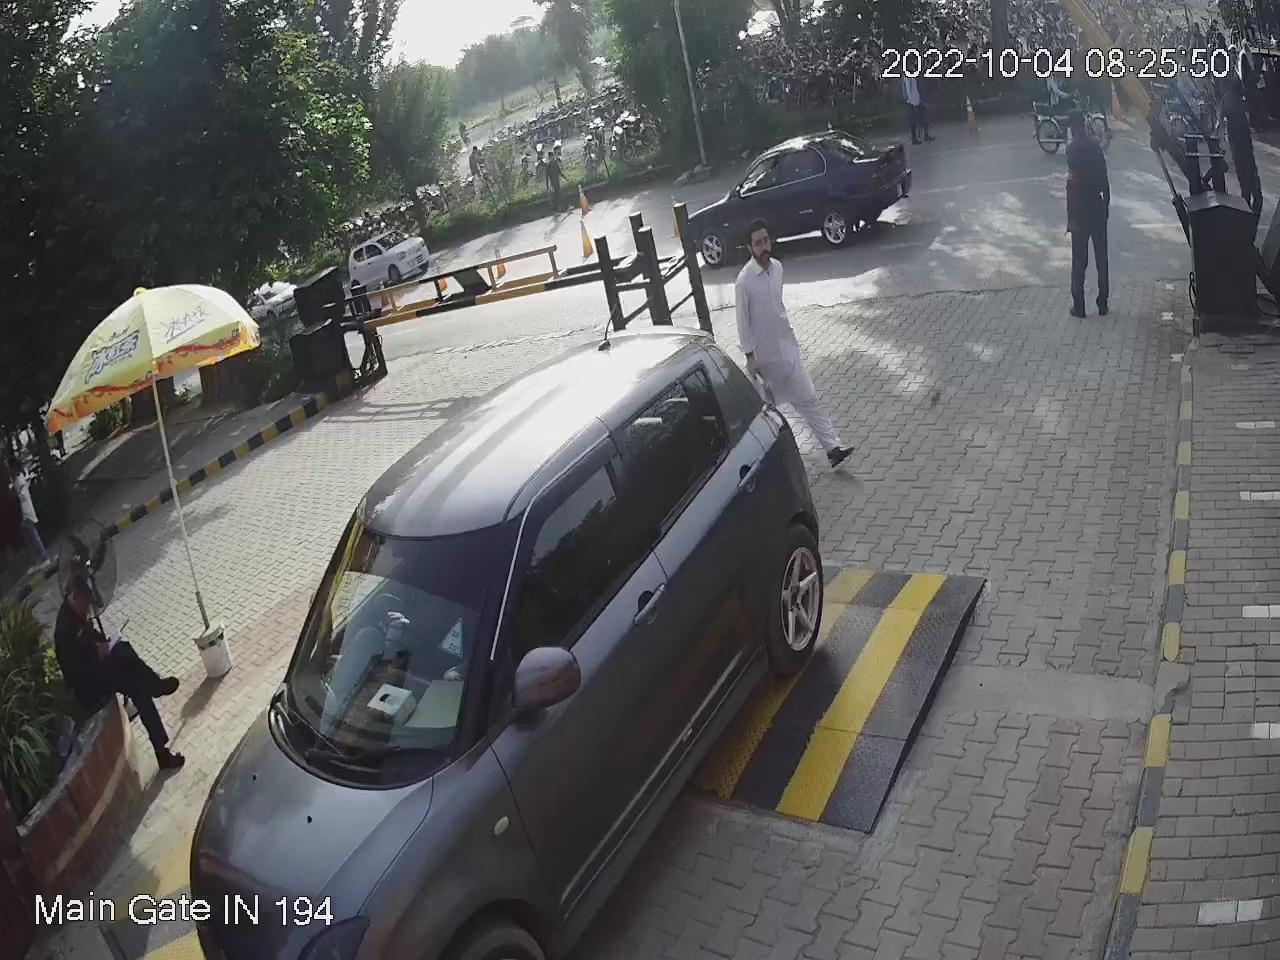windshield: (275, 512, 528, 770)
